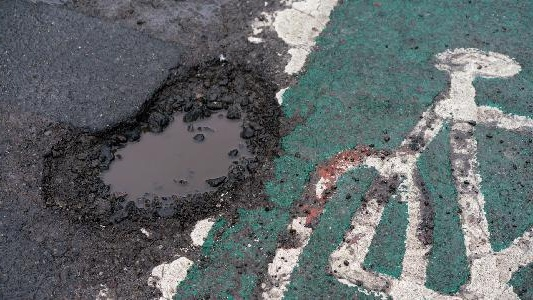pothole: (40, 56, 288, 237)
